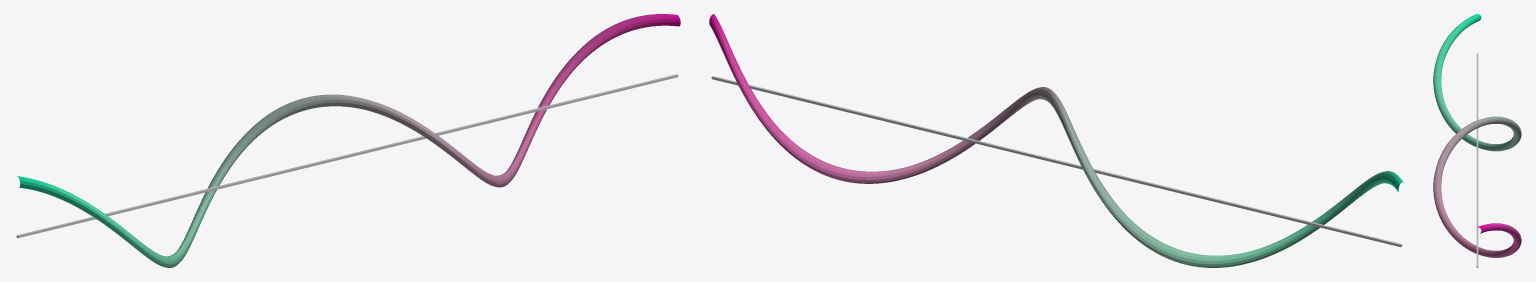
The model's file is 3d-euler-helix-complex-20260125.glb.
3 renders of one model, left to right at view 1: azimuth 30°, elevation 25°; view 2: azimuth 150°, elevation 25°; view 3: azimuth 270°, elevation 25°, orthographic. The views are drawn at different scales.
Visible parts, largest first — view 1: EulerHelix, Axis; view 2: EulerHelix, Axis; view 3: EulerHelix, Axis.
Boxes of the visible parts, <box> form: EulerHelix: <box>17,14,680,267</box>; Axis: <box>16,74,678,238</box>; EulerHelix: <box>709,14,1403,267</box>; Axis: <box>711,76,1402,247</box>; EulerHelix: <box>1433,14,1521,257</box>; Axis: <box>1476,53,1478,267</box>.
Size of the model in its own units: 12.57 by 2.2 by 2.2.
